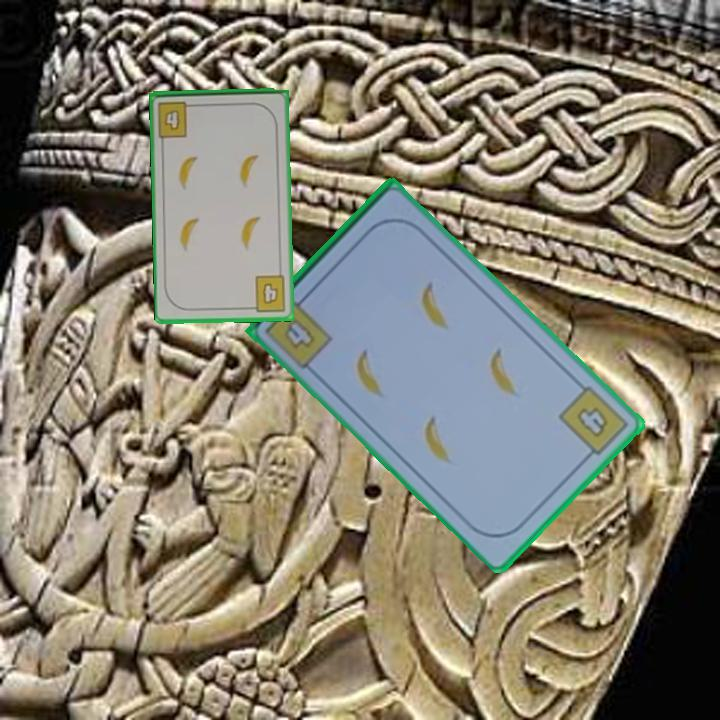4b: (555, 381, 632, 464), (154, 98, 199, 140), (245, 272, 289, 314), (280, 314, 319, 352)
